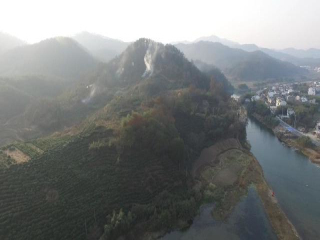smoke: (140, 39, 163, 80)
